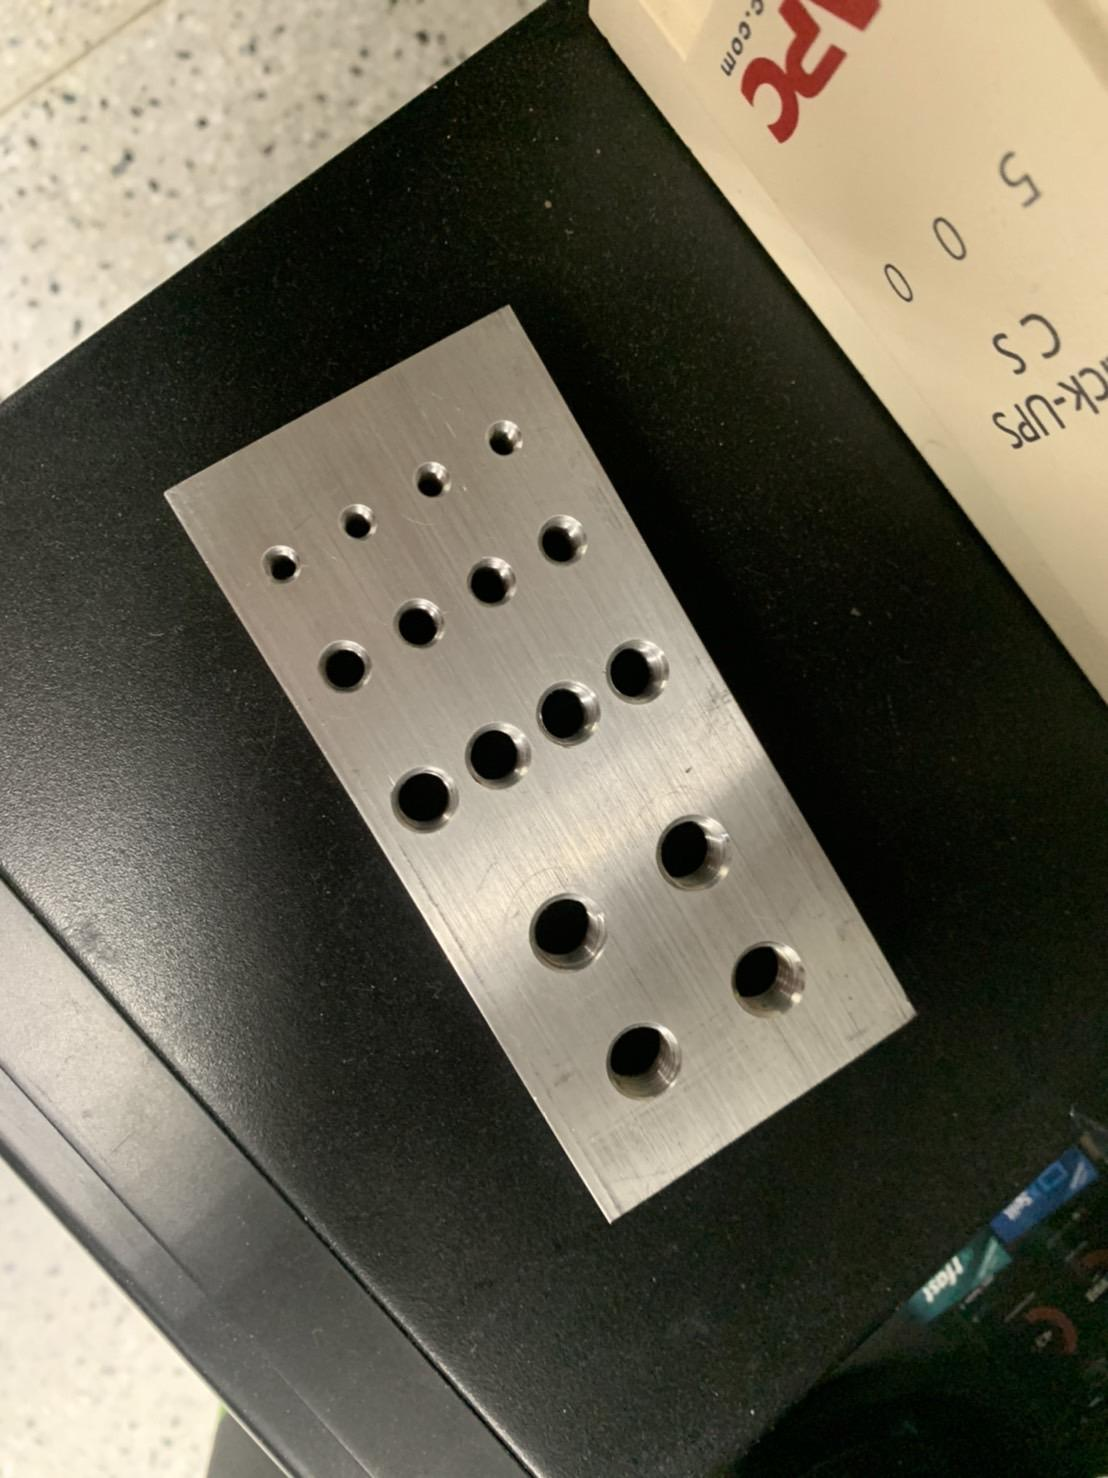hole: (724, 939, 812, 1030), (651, 802, 739, 891), (601, 1021, 692, 1103), (530, 884, 613, 974), (386, 756, 466, 834), (464, 720, 535, 793), (606, 635, 674, 711), (533, 682, 603, 753), (537, 510, 594, 574), (318, 637, 377, 696), (467, 550, 520, 612), (393, 597, 449, 653), (257, 541, 304, 588), (333, 500, 381, 545), (414, 460, 457, 505), (484, 419, 527, 459)
